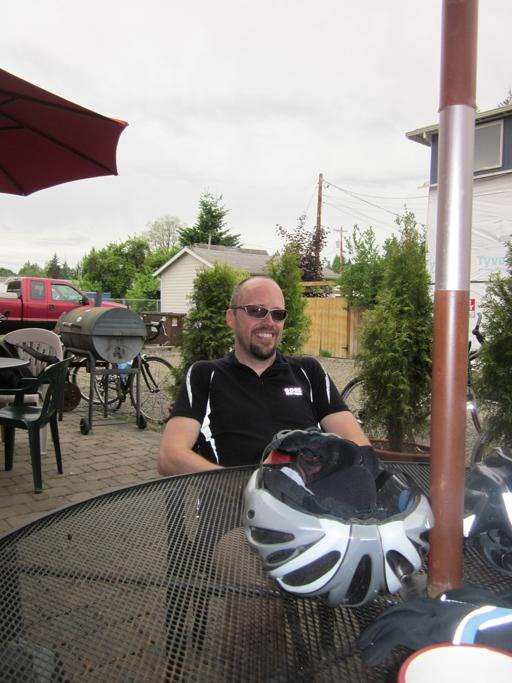non-vehicle: (335, 310, 496, 436), (89, 318, 182, 423), (69, 352, 128, 406)
